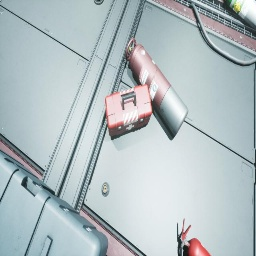0: (226, 0, 256, 30)
FireExtinguisher ]: (180, 218, 211, 256)
FirstAidBox ,: (105, 84, 152, 136)
NitrogenTank ,: (125, 38, 189, 136)
